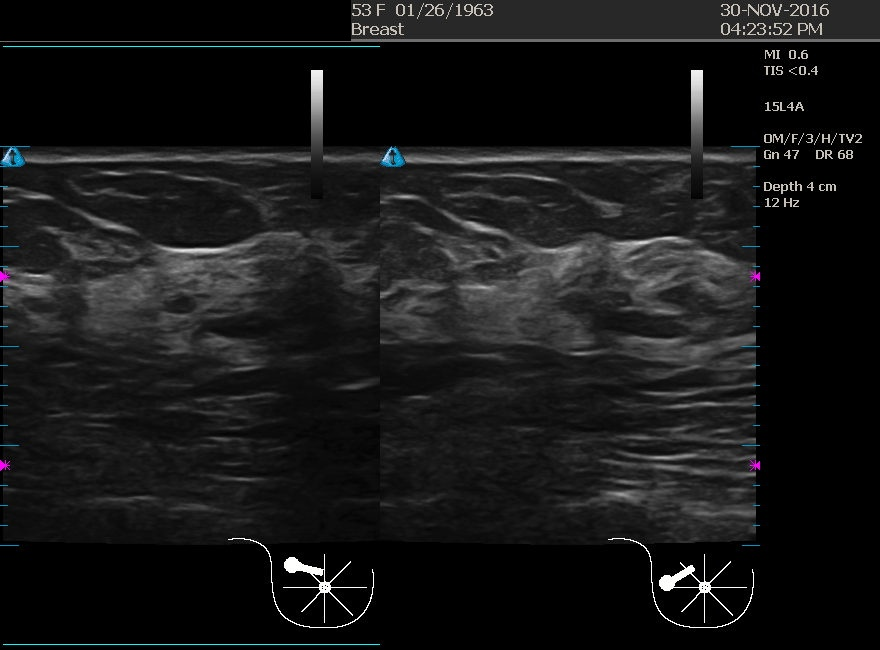BIRADS_2: (128, 232, 328, 432), (531, 301, 731, 501)
